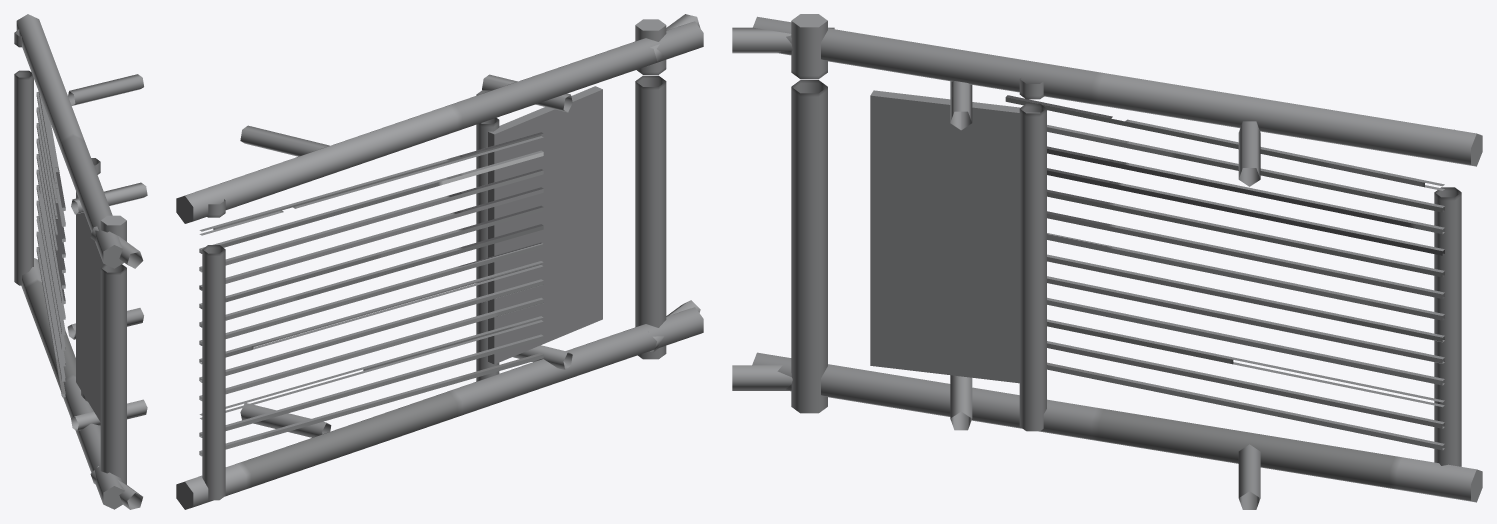
The picture shows the model from 3 angles, left to right: view 1: azimuth 30°, elevation 25°; view 2: azimuth 150°, elevation 25°; view 3: azimuth 270°, elevation 25°; orthographic projection. The views are drawn at different scales.
Bounding box in the file's own units: 0.8001 × 1 × 1.76.
